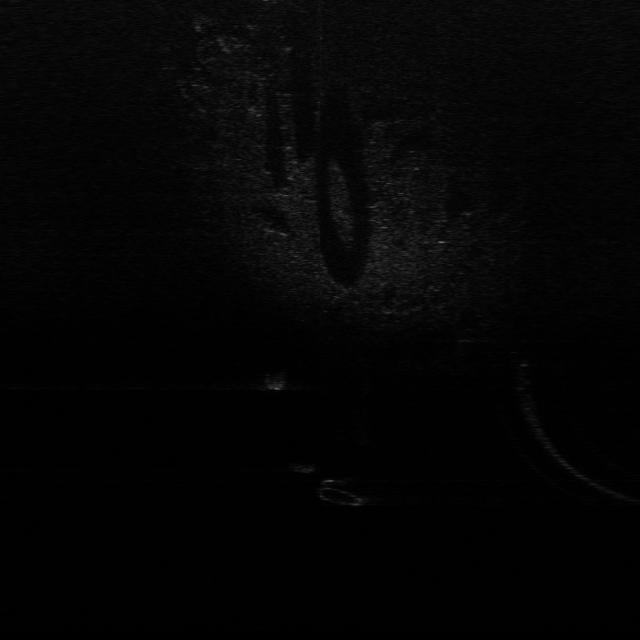cube: (286, 460, 320, 475)
square cage: (256, 367, 290, 393)
tyre: (316, 475, 374, 508)
